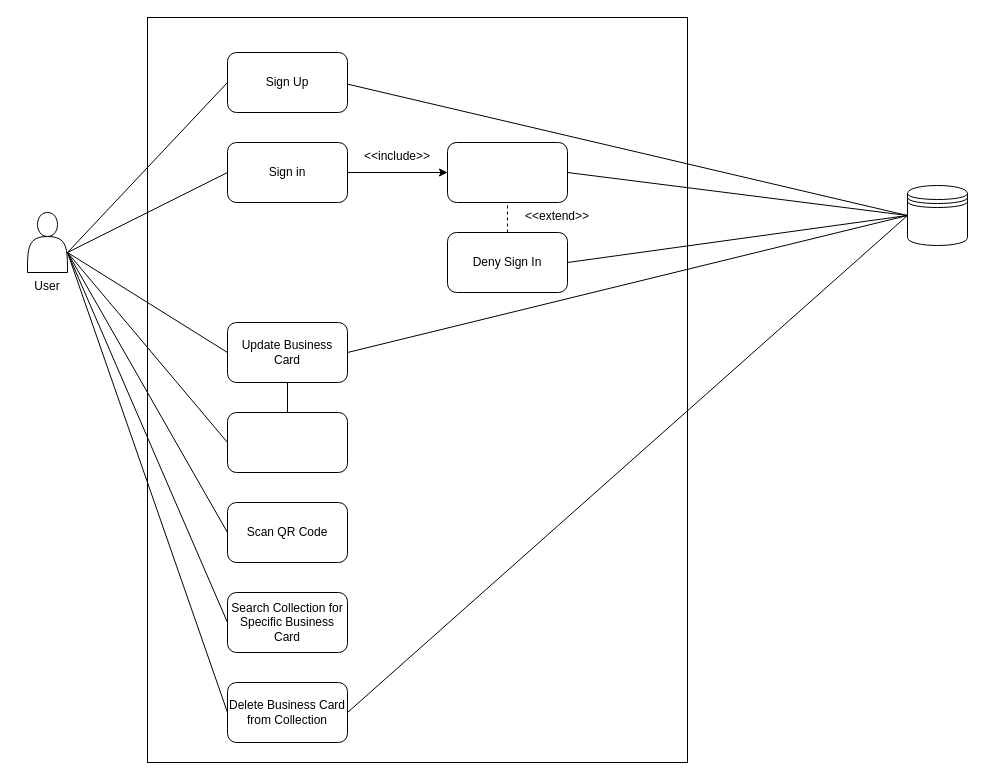
This 985x780 diagram has some shape labels left out. Each missing label, with the box of its shape:
Database: (906, 184, 968, 246)
Generate QR Code: (226, 412, 348, 472)
Verify Sign In: (446, 142, 568, 202)
